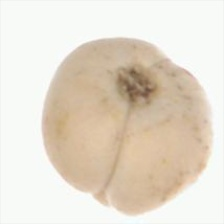L3: (75, 180, 130, 214)
L4: (41, 39, 211, 215)
